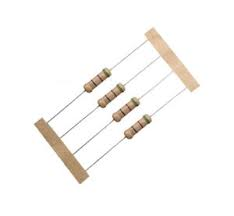resistor: (78, 66, 114, 95), (108, 95, 146, 121), (94, 83, 128, 110), (121, 115, 153, 142)
